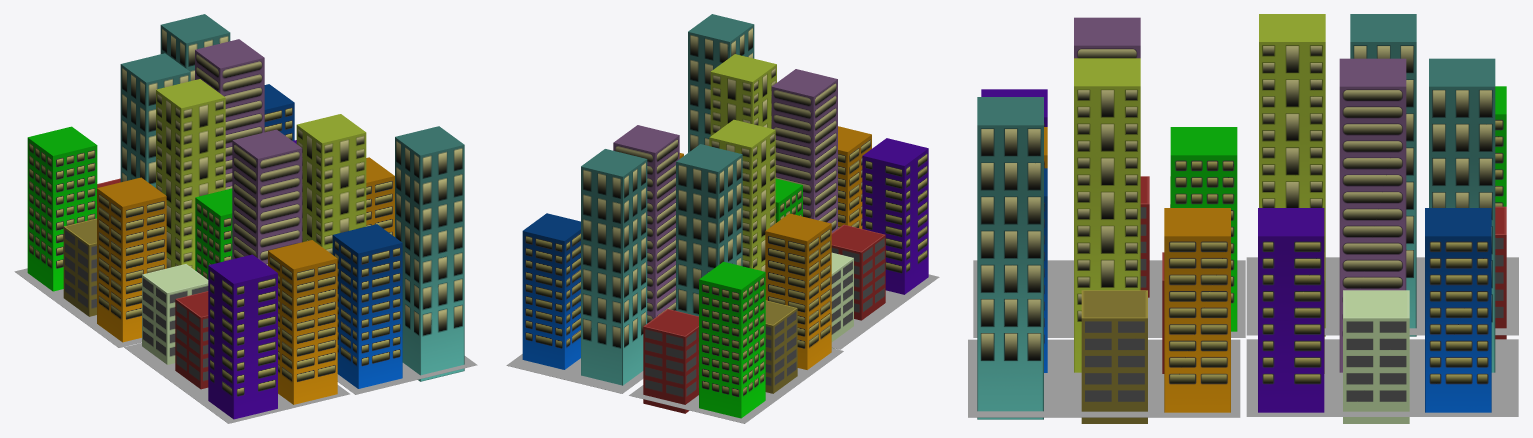
File: predio2.fbx
3 views of the same model, side by side, from view 1: azimuth 30°, elevation 25°; view 2: azimuth 150°, elevation 25°; view 3: azimuth 270°, elevation 25° (orthographic). The views are drawn at different scales.
Parts seen in each view (by area): view 1: polySurface28, polySurface7, polySurface30, polySurface46, polySurface29, polySurface32, polySurface33, polySurface45, polySurface44, polySurface48, polySurface47, polySurface37 (+9 smaller); view 2: polySurface49, polySurface33, polySurface47, polySurface36, polySurface7, polySurface45, polySurface32, polySurface48, polySurface46, polySurface39, polySurface28, polySurface44 (+8 smaller); view 3: polySurface28, polySurface44, polySurface48, polySurface34, polySurface35, polySurface36, polySurface46, polySurface49, polySurface40, polySurface43, polySurface22, polySurface8 (+10 smaller).
Part boxes in pixels (bbox=[...]): polySurface28: bbox=[395, 126, 464, 381]; polySurface7: bbox=[208, 254, 277, 419]; polySurface30: bbox=[332, 224, 402, 388]; polySurface46: bbox=[156, 79, 225, 269]; polySurface29: bbox=[268, 240, 337, 404]; polySurface32: bbox=[97, 177, 166, 342]; polySurface33: bbox=[27, 126, 97, 291]; polySurface45: bbox=[232, 129, 302, 265]; polySurface44: bbox=[296, 114, 366, 254]; polySurface48: bbox=[195, 39, 264, 189]; polySurface47: bbox=[120, 53, 190, 187]; polySurface37: bbox=[142, 264, 208, 364]; polySurface49: bbox=[581, 149, 647, 385]; polySurface33: bbox=[699, 261, 765, 418]; polySurface47: bbox=[676, 144, 742, 316]; polySurface36: bbox=[522, 213, 580, 369]; polySurface7: bbox=[862, 138, 928, 294]; polySurface45: bbox=[771, 69, 837, 232]; polySurface32: bbox=[765, 213, 831, 369]; polySurface48: bbox=[613, 125, 679, 323]; polySurface46: bbox=[709, 119, 775, 271]; polySurface39: bbox=[643, 309, 698, 413]; polySurface28: bbox=[688, 14, 754, 152]; polySurface44: bbox=[710, 54, 776, 135]; polySurface28: bbox=[977, 97, 1043, 419]; polySurface44: bbox=[1074, 58, 1140, 372]; polySurface48: bbox=[1339, 58, 1406, 372]; polySurface34: bbox=[1164, 208, 1230, 412]; polySurface35: bbox=[1258, 208, 1324, 412]; polySurface36: bbox=[1425, 208, 1491, 412]; polySurface46: bbox=[1259, 14, 1325, 336]; polySurface49: bbox=[1429, 58, 1495, 372]; polySurface40: bbox=[1343, 290, 1409, 423]; polySurface43: bbox=[1081, 290, 1147, 423]; polySurface22: bbox=[968, 339, 1240, 417]; polySurface8: bbox=[1246, 339, 1518, 416].
Size of the model in its own units: 8.39 by 7.3 by 12.22.
